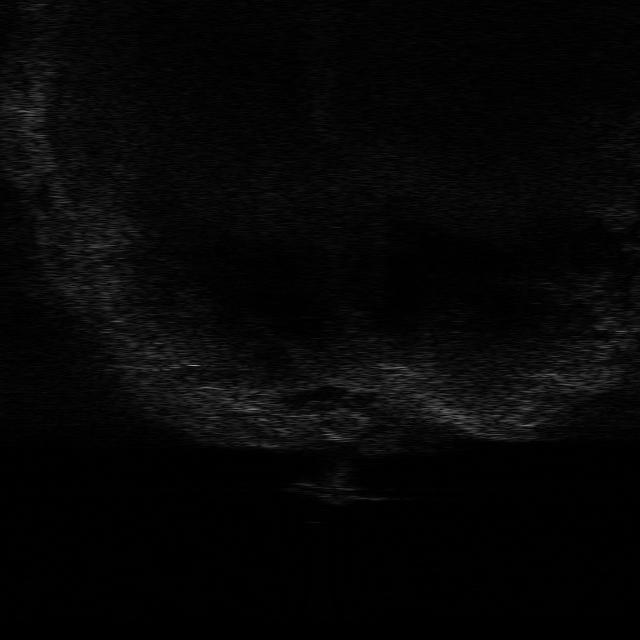plane: (285, 480, 389, 507)
